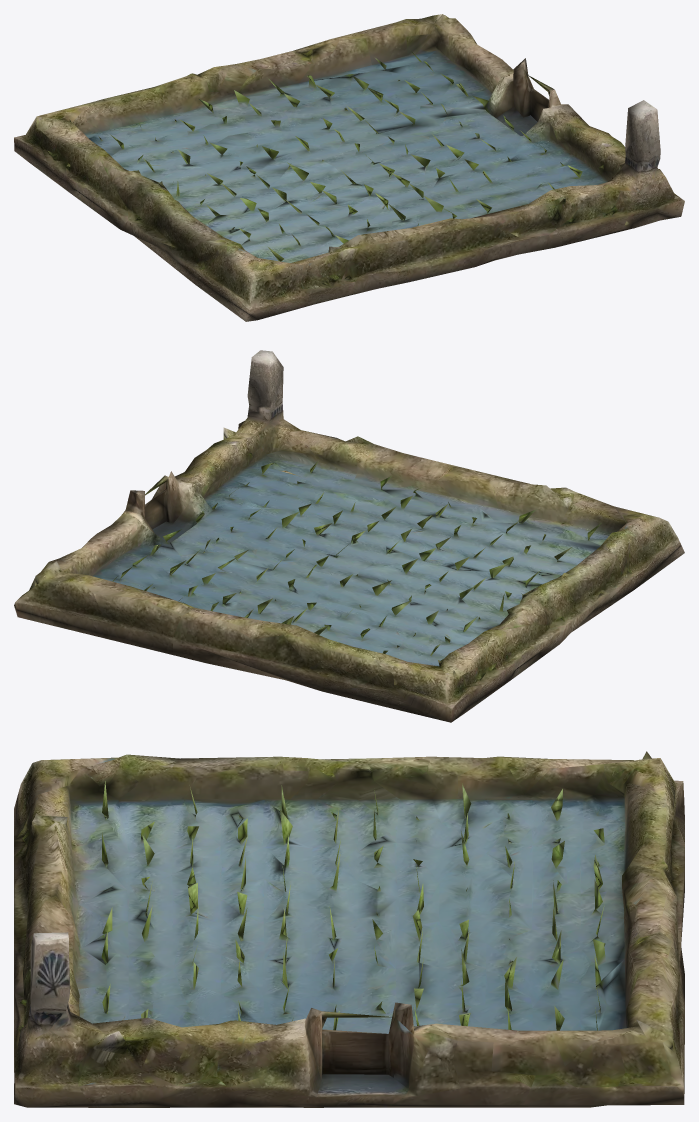
Rendered from rice_paddy_1.glb.
The picture shows the model from 3 angles, top to bottom: view 1: azimuth 30°, elevation 25°; view 2: azimuth 150°, elevation 25°; view 3: azimuth 270°, elevation 25°; orthographic projection. The views are drawn at different scales.
Visible parts, largest first — view 1: tripo_node_f003607c-d093-4c6a-9552-67b010951cf6; view 2: tripo_node_f003607c-d093-4c6a-9552-67b010951cf6; view 3: tripo_node_f003607c-d093-4c6a-9552-67b010951cf6.
Part boxes in pixels (x1,y1,x2,y2): tripo_node_f003607c-d093-4c6a-9552-67b010951cf6: (14,14,684,321); tripo_node_f003607c-d093-4c6a-9552-67b010951cf6: (14,350,684,722); tripo_node_f003607c-d093-4c6a-9552-67b010951cf6: (14,751,684,1107).
Size of the model in its own units: 0.9777 by 0.2286 by 0.9035.
Materials: 1 (1 with a texture image).
